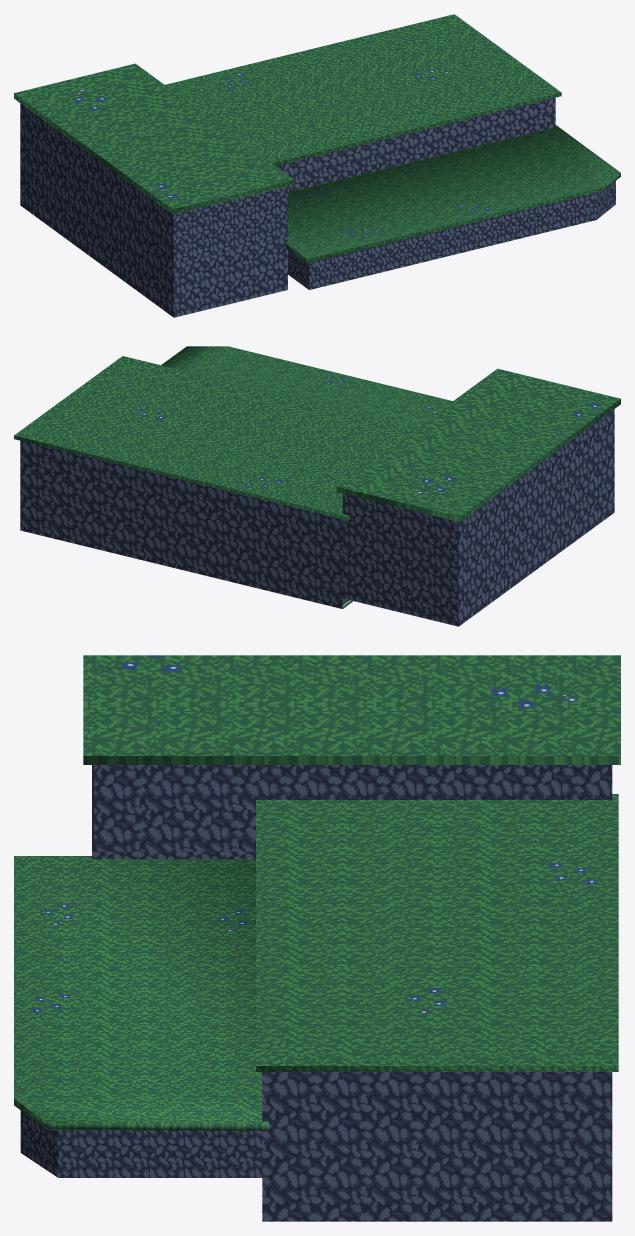
Rendered from ChaoEdPequeno.fbx.
3 renders of one model, top to bottom at view 1: azimuth 30°, elevation 25°; view 2: azimuth 150°, elevation 25°; view 3: azimuth 270°, elevation 25°, orthographic. The views are drawn at different scales.
Parts seen in each view (by area): view 1: ChaoCasaEdPequeno; view 2: ChaoCasaEdPequeno; view 3: ChaoCasaEdPequeno.
Boxes of the visible parts, left/top/right/bottom form: ChaoCasaEdPequeno: left=14, top=14, right=620, bottom=317; ChaoCasaEdPequeno: left=14, top=346, right=620, bottom=626; ChaoCasaEdPequeno: left=14, top=655, right=620, bottom=1221.
Bounding box in the file's own units: 3922 × 2768 × 1037.
